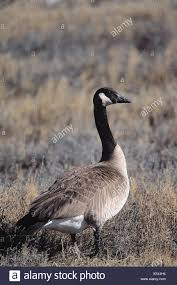goose: (9, 86, 133, 259)
